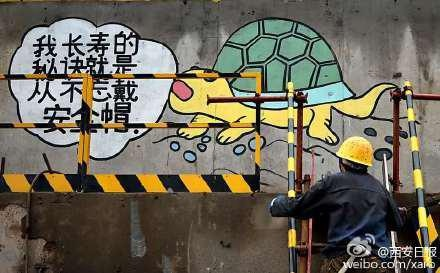yellow: (336, 136, 375, 176)
